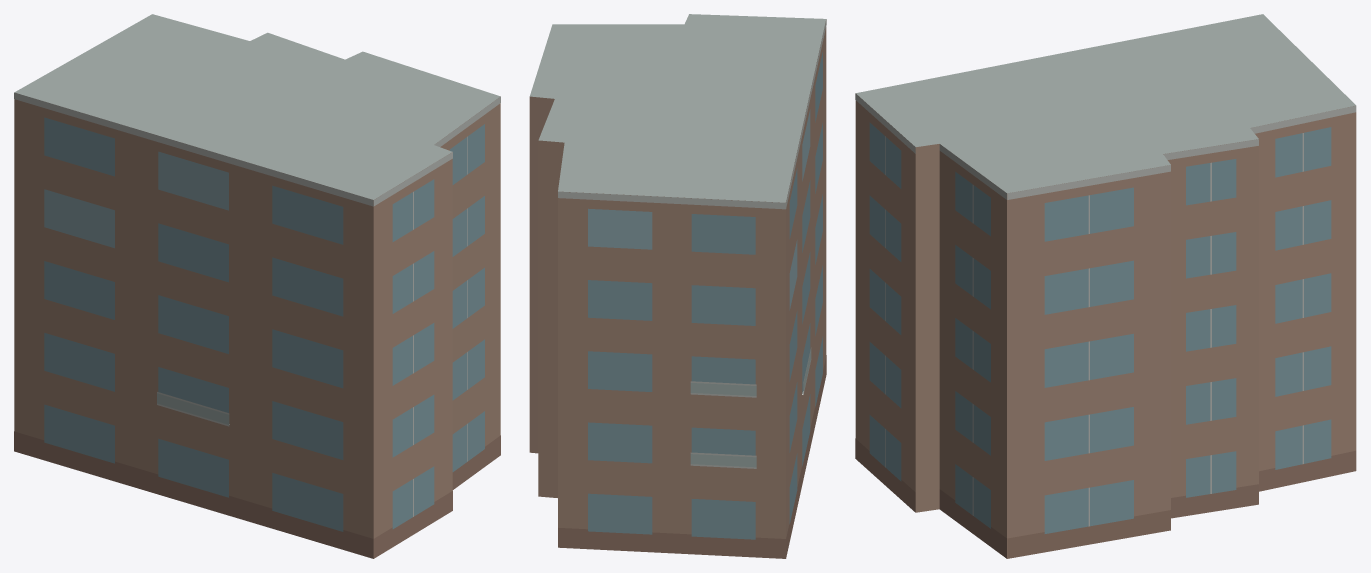
The model's file is survey-upis-32946851.glb.
3 renders of one model, left to right at view 1: azimuth 30°, elevation 25°; view 2: azimuth 150°, elevation 25°; view 3: azimuth 270°, elevation 25°, orthographic. The views are drawn at different scales.
Visible parts, largest first — view 1: survey-upis-32946851.tmp; view 2: survey-upis-32946851.tmp; view 3: survey-upis-32946851.tmp.
Boxes of the visible parts, box(x1,y1,x2,y2) form: survey-upis-32946851.tmp: box(14, 14, 500, 558); survey-upis-32946851.tmp: box(529, 14, 826, 558); survey-upis-32946851.tmp: box(855, 14, 1356, 558).
Size of the model in its own units: 13.9 by 13.2 by 16.4.
